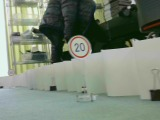speed_20: (66, 35, 94, 60)
